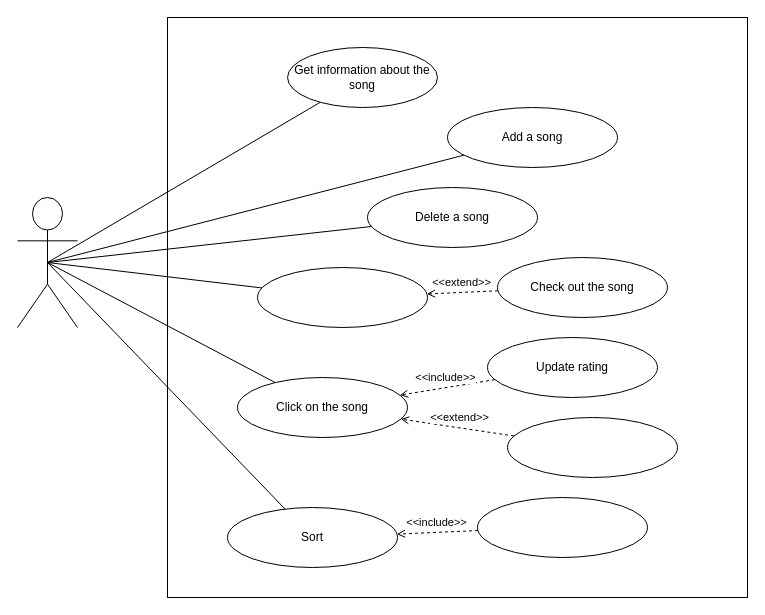
The diagram is 765 pixels wide and 615 high, and some of its shapes have lost their labels. The box of each missing label's shape, as (x1, y1, x2, y2) in pixels:
Actor: (16, 196, 78, 328)
Display information: (506, 416, 678, 478)
Save the song: (256, 266, 428, 328)
Select a criterion: (476, 496, 648, 558)
